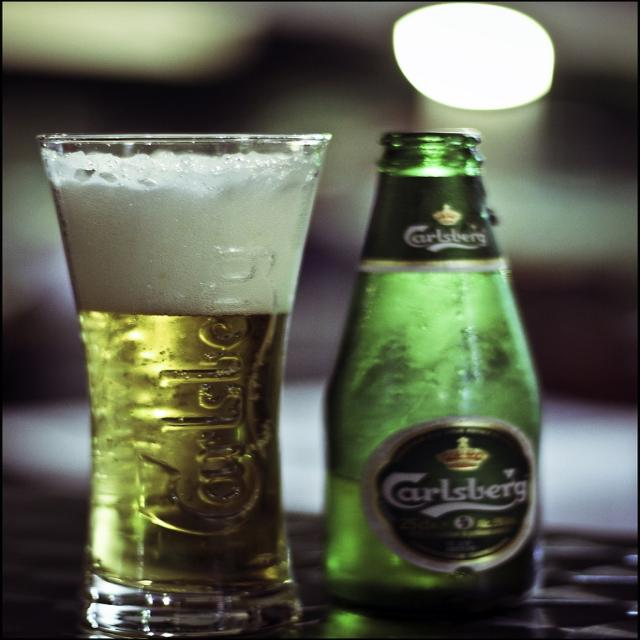carlsberg: (370, 418, 542, 570), (404, 202, 494, 258)
